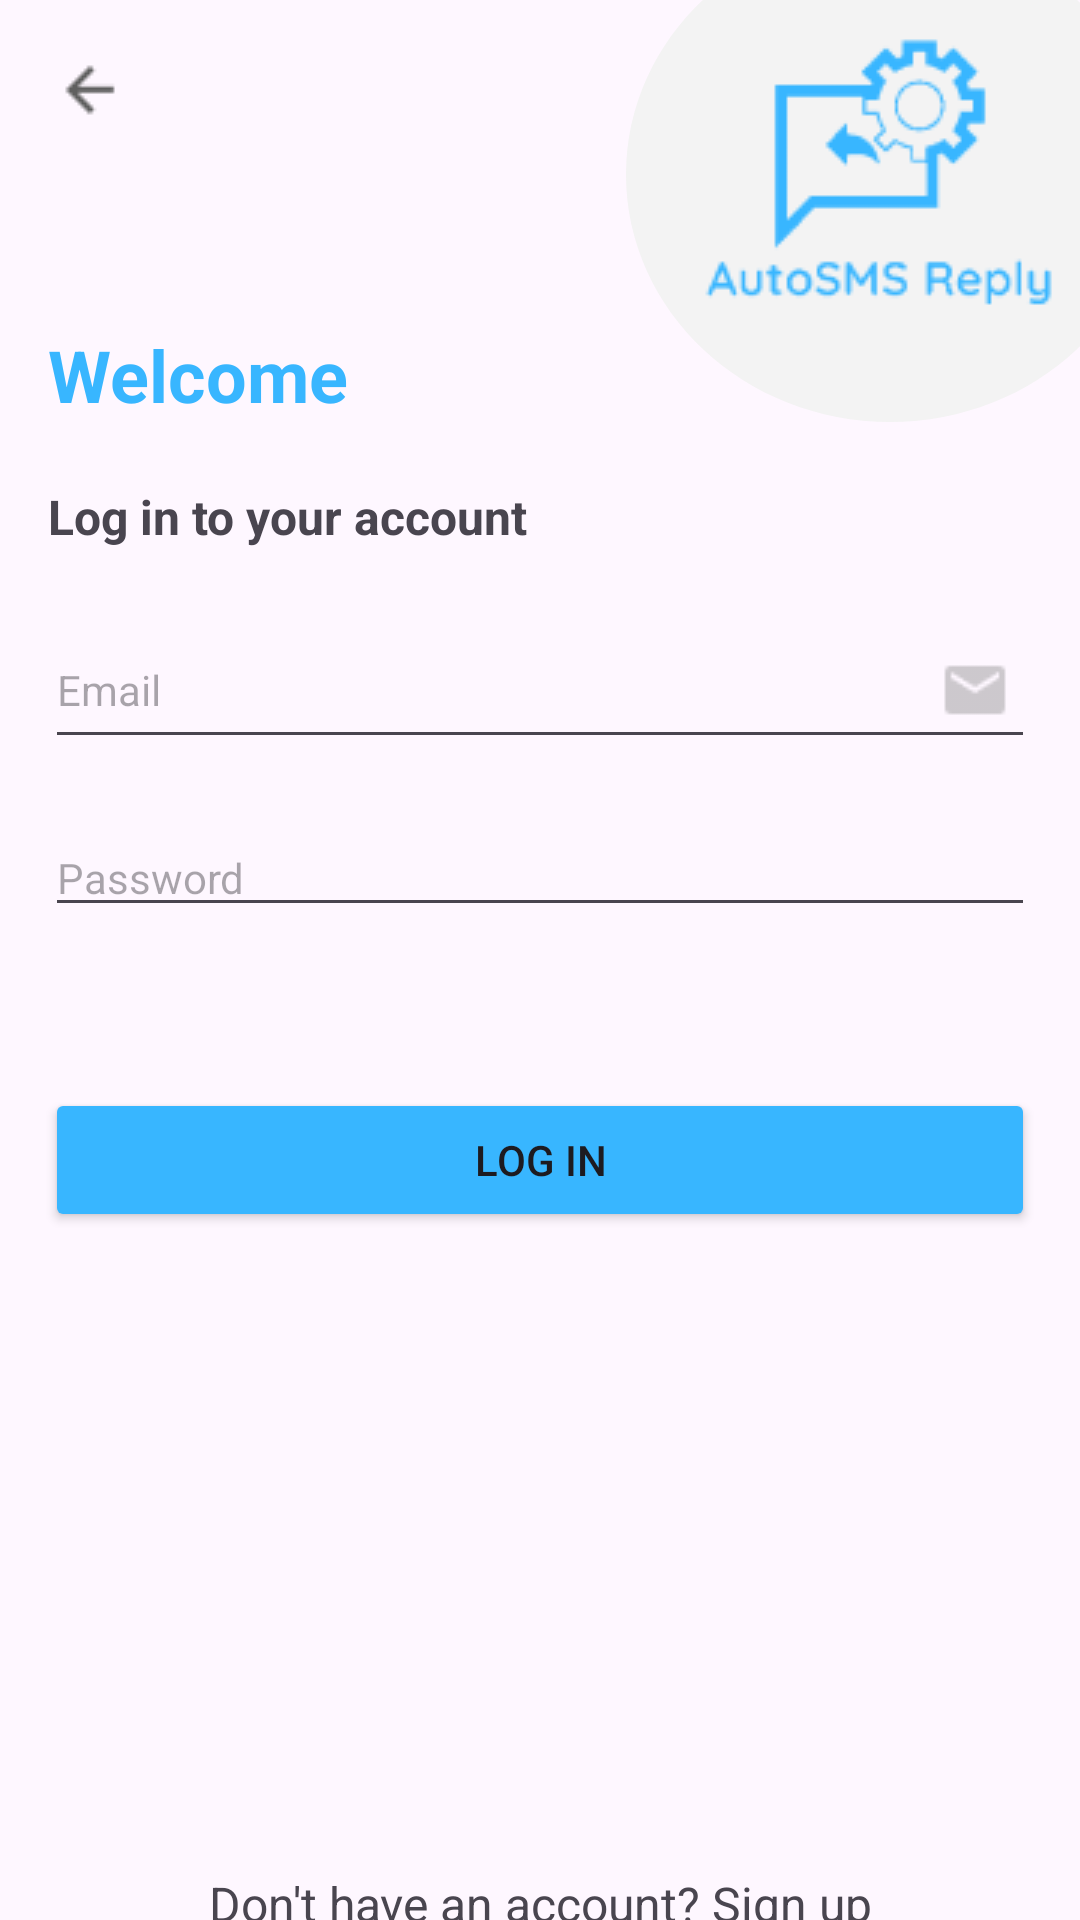

Where to tap for icons on this 1080w x 1920h app screen, as (x,y):
arrow left: (90,90)
